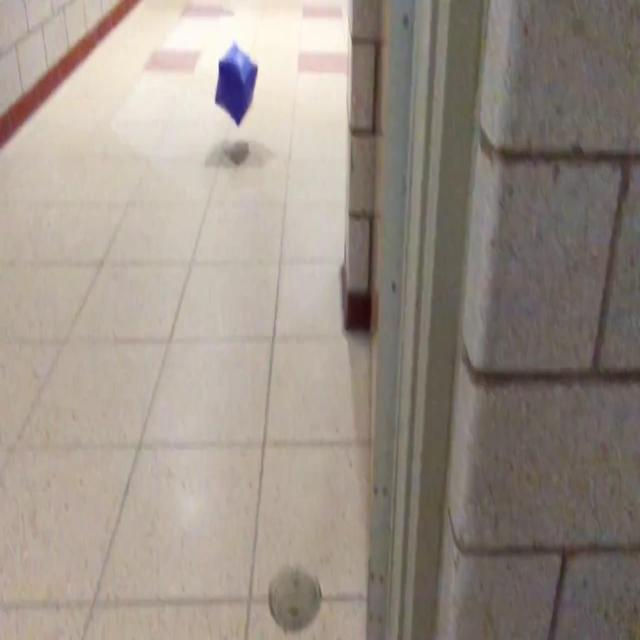frc_cube: (214, 41, 258, 125)
